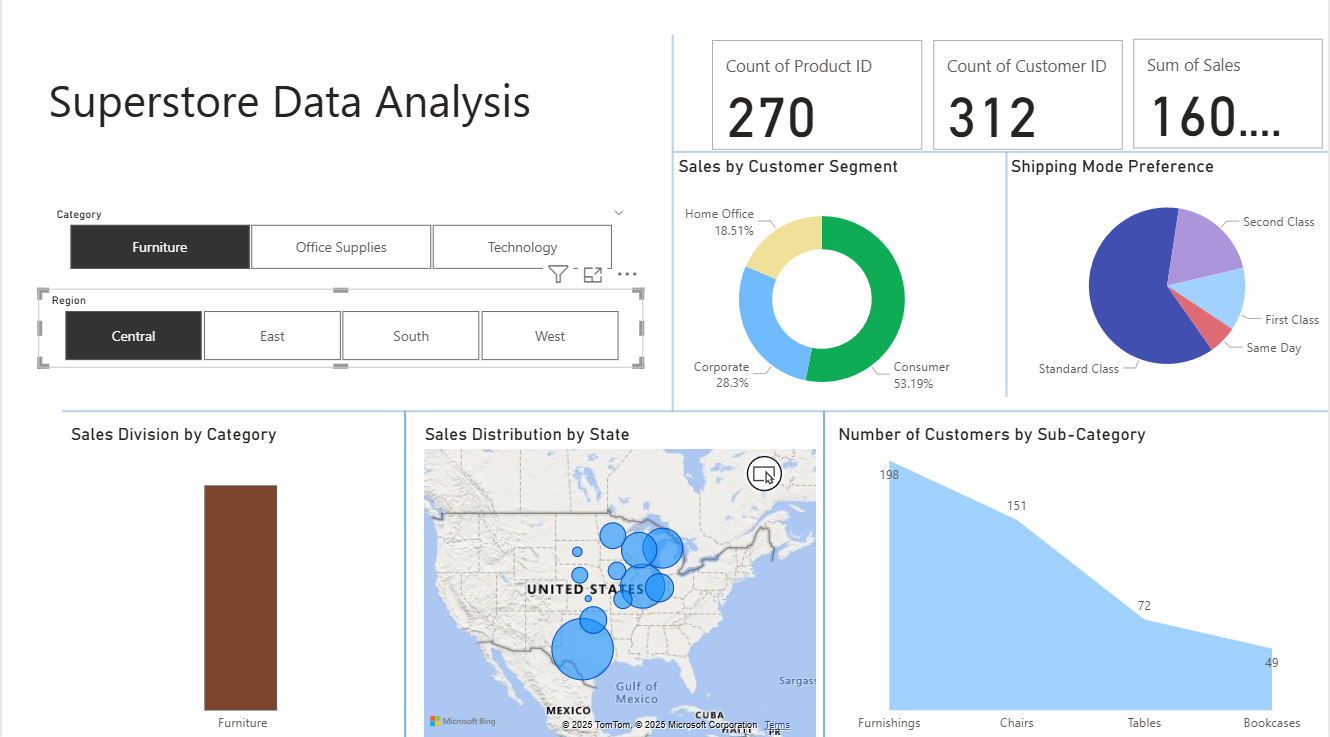

The page's visual inventory and layout, read from the dashboard file:
{"tool":"powerbi","page":{"name":"Page 1","canvas":[1280,720],"ordinal":0},"visuals":[{"type":"columnChart","title":"Sales Division by Category","fields":{"Category":["train.Category"],"Y":["Sum(train.Sales)"],"Series":["train.Category"]},"box":[61.1,413.3,342.4,306.9],"z":0},{"type":"donutChart","title":"Sales by Customer Segment","fields":{"Category":["train.Segment"],"Y":["CountNonNull(train.Segment)"]},"box":[648.1,154.1,287.4,259.2],"z":1000},{"type":"pieChart","title":"Shipping Mode Preference","fields":{"Y":["CountNonNull(train.Ship Mode)"],"Category":["train.Ship Mode"]},"box":[968.5,154.1,311.8,233.6],"z":2000},{"type":"map","title":"Sales Distribution by State","fields":{"Category":["train.State"],"Size":["Sum(train.Sales)"]},"box":[403.5,413.3,387.6,306.9],"z":3000},{"type":"areaChart","title":"Number of Customers by Sub-Category","fields":{"Category":["train.Sub-Category"],"Y":["CountNonNull(train.Customer ID)"]},"box":[802.2,413.3,478.1,306.9],"z":4000},{"type":"cardVisual","fields":{"Data":["Sum(train.Sales)"]},"box":[1087.1,37.9,193.2,116.2],"z":5000},{"type":"cardVisual","fields":{"Data":["Count(train.Customer ID)"]},"box":[893.9,39.1,193.2,116.2],"z":6000},{"type":"cardVisual","fields":{"Data":["Count(train.Product ID)"]},"box":[679.9,39.1,214,116.2],"z":7000},{"type":"slicer","fields":{"Values":["train.Region"]},"box":[35,283.5,583.9,76],"z":8000},{"type":"slicer","fields":{"Values":["train.Category"]},"box":[39.8,200.3,573.1,71.2],"z":9000},{"type":"shape","box":[953.8,151.6,30.6,236],"z":10000},{"type":"shape","box":[777.7,402.3,30.6,317.9],"z":11000},{"type":"shape","box":[777.7,402.1,30.6,317.9],"z":12000},{"type":"shape","box":[374,401.7,30.2,318.5],"z":13000},{"type":"shape","box":[374,401.5,30.2,318.5],"z":13001},{"type":"shape","box":[647.9,138.7,632.2,25.3],"z":13002},{"type":"shape","box":[632.2,38.6,30.2,363.1],"z":13003},{"type":"textbox","box":[39.8,66.4,573.1,107.4],"z":13004},{"type":"shape","box":[57.9,395.7,1222.1,12.1],"z":13005}]}

Visuals, with their boxes in screenshot pixels (x1, y1, x2, y2), scaled from the page's 1280x720 canvas onto the 1330x737 screenshot:
"Sales Division by Category" columnChart: locate(63, 423, 419, 736)
"Sales by Customer Segment" donutChart: locate(673, 158, 972, 423)
"Shipping Mode Preference" pieChart: locate(1006, 158, 1329, 397)
"Sales Distribution by State" map: locate(419, 423, 822, 736)
"Number of Customers by Sub-Category" areaChart: locate(834, 423, 1329, 736)
cardVisual - Sum(train.Sales): locate(1130, 39, 1329, 158)
cardVisual - Count(train.Customer ID): locate(929, 40, 1130, 159)
cardVisual - Count(train.Product ID): locate(706, 40, 929, 159)
slicer - train.Region: locate(36, 290, 643, 368)
slicer - train.Category: locate(41, 205, 637, 278)
shape: locate(991, 155, 1023, 397)
shape: locate(808, 412, 840, 736)
shape: locate(808, 412, 840, 736)
shape: locate(389, 411, 420, 736)
shape: locate(389, 411, 420, 736)
shape: locate(673, 142, 1329, 168)
shape: locate(657, 40, 688, 411)
textbox: locate(41, 68, 637, 178)
shape: locate(60, 405, 1329, 417)
